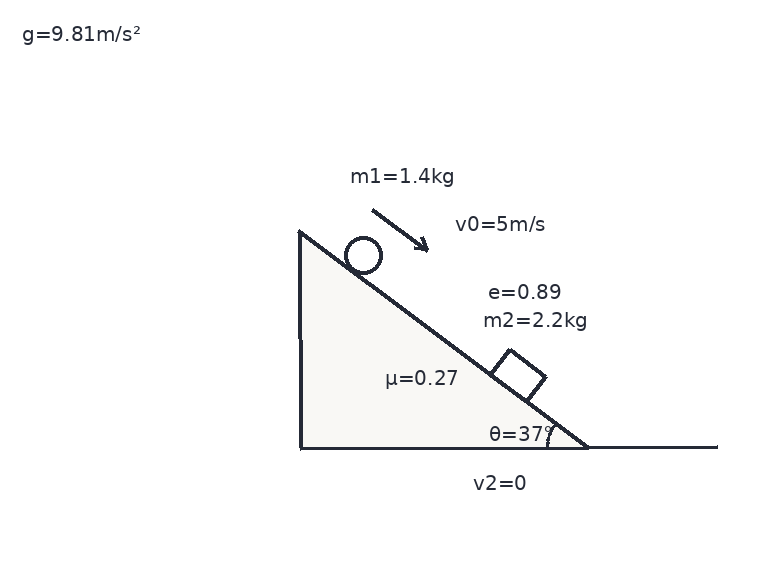ball: (342, 234, 384, 276)
block: (488, 347, 547, 404)
ramp: (297, 229, 589, 450)
